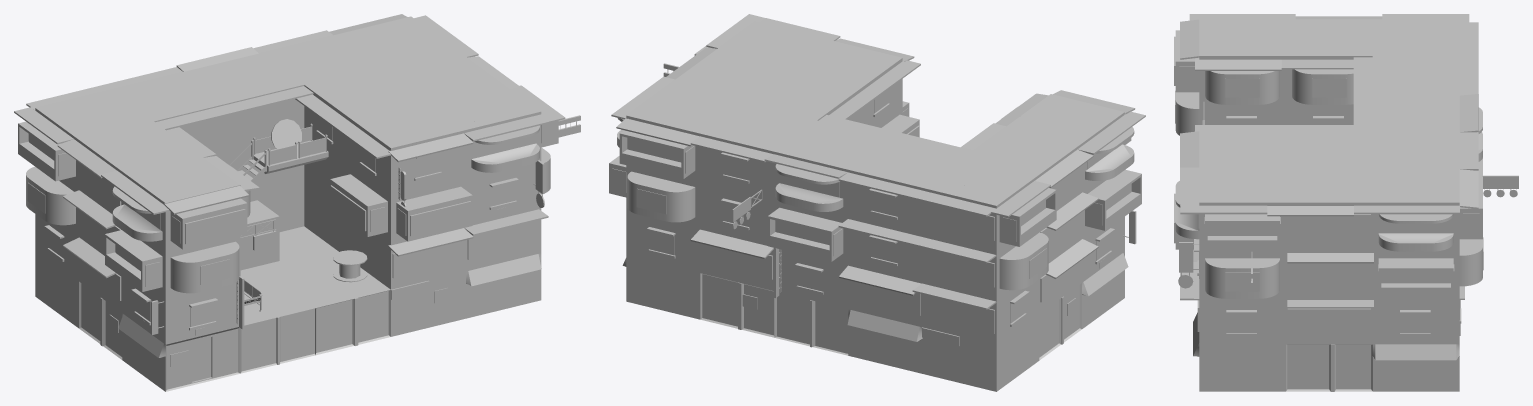
The model's file is House_11_United_Homes.fbx.
The picture shows the model from 3 angles, left to right: view 1: azimuth 30°, elevation 25°; view 2: azimuth 150°, elevation 25°; view 3: azimuth 270°, elevation 25°; orthographic projection.
Parts seen in each view (by area): view 1: House_11_United_Homes; view 2: House_11_United_Homes; view 3: House_11_United_Homes.
Boxes of the visible parts, <box> form: House_11_United_Homes: <box>14,14,580,391</box>; House_11_United_Homes: <box>609,14,1145,391</box>; House_11_United_Homes: <box>1174,14,1518,391</box>.
Size of what is drawn, in the model's own units: 3074 by 1200 by 1986.
